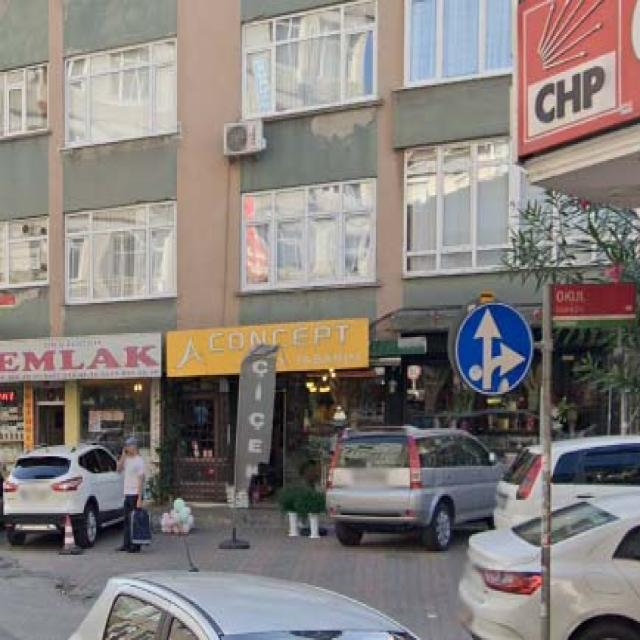ilerisag: (456, 303, 532, 396)
